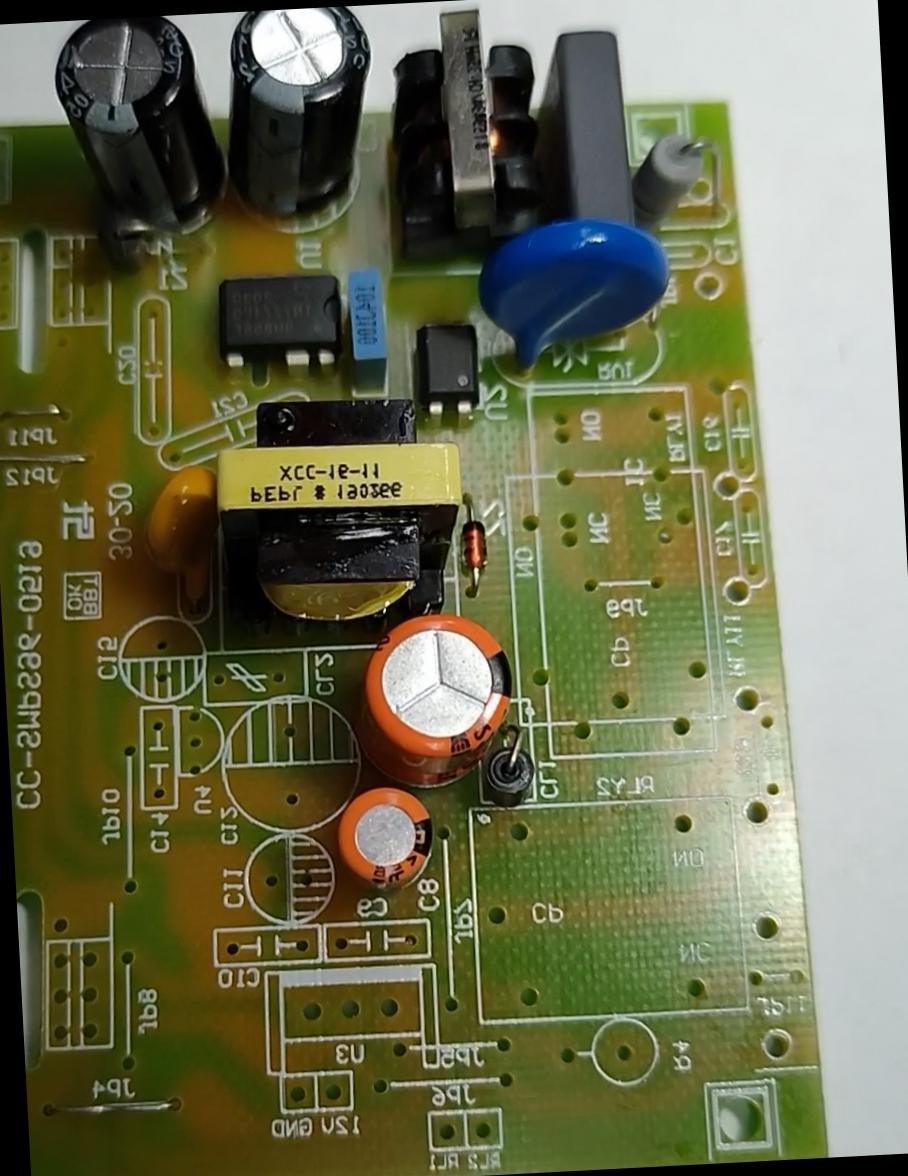Cap1: (358, 608, 520, 794)
Cap2: (330, 778, 442, 898)
Cap3: (209, 5, 383, 235)
Cap4: (48, 13, 226, 252)
MOSFET: (204, 267, 350, 378)
Mov: (470, 211, 678, 390)
Resistor: (628, 113, 715, 219)
Transformer: (198, 382, 474, 644), (377, 0, 558, 272)
